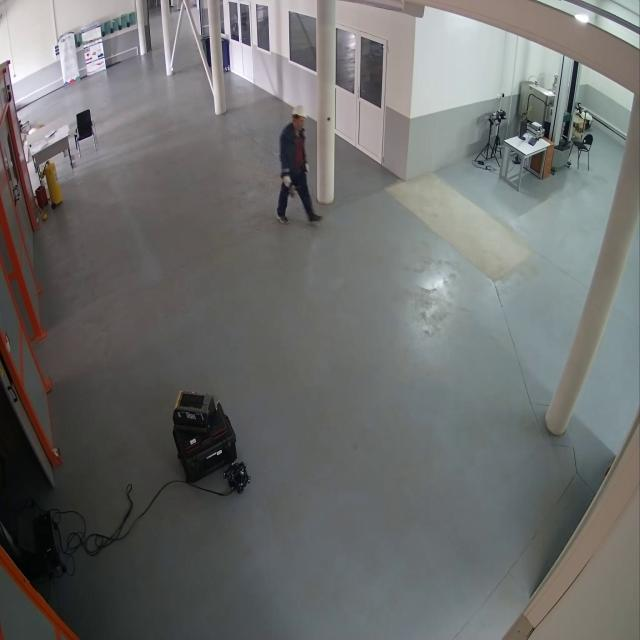Hardhat: (292, 103, 307, 121)
Person: (276, 99, 325, 228)
